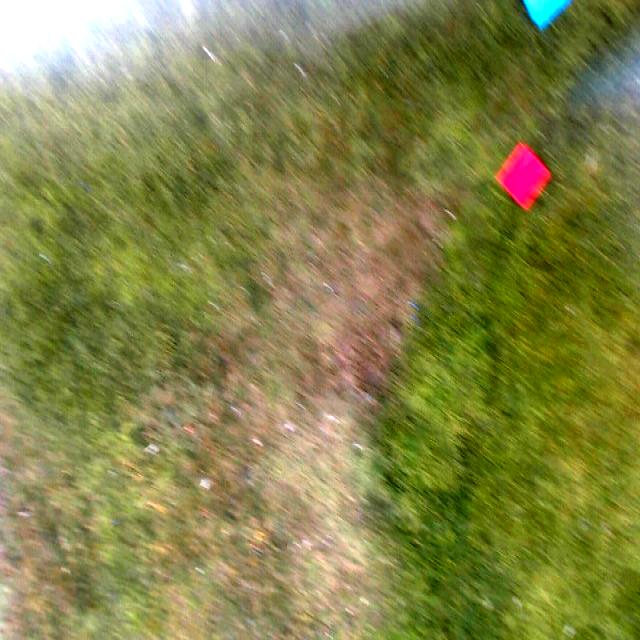red_square: (496, 142, 550, 208)
